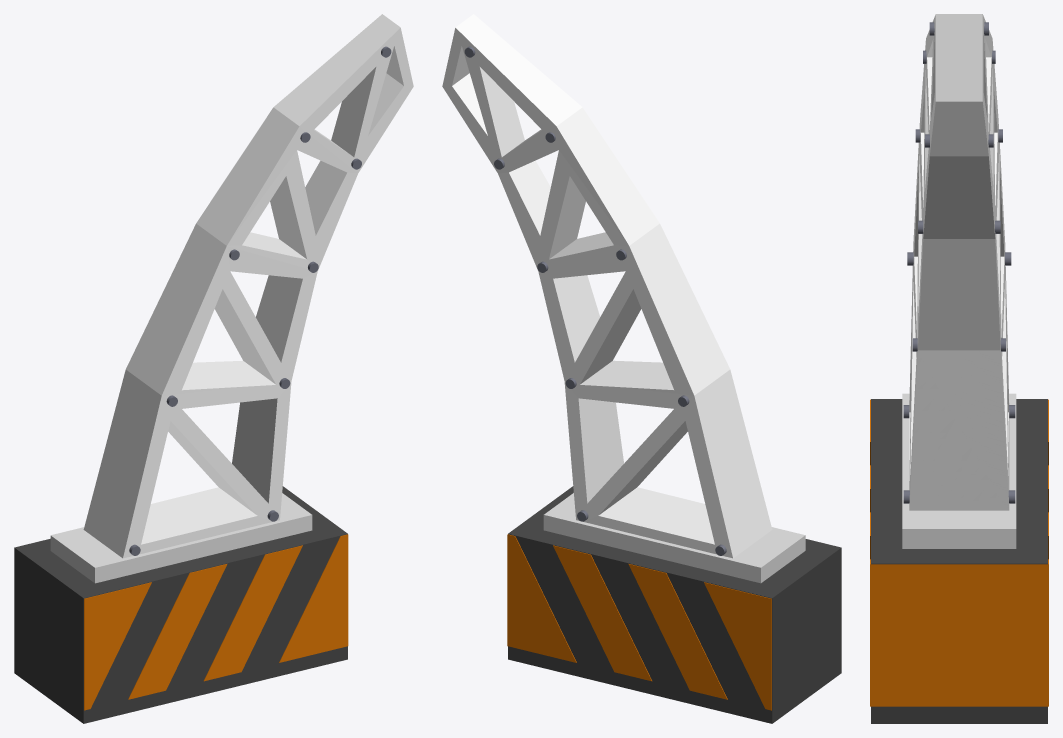
File: Ramp.fbx
3 renders of one model, left to right at view 1: azimuth 30°, elevation 25°; view 2: azimuth 150°, elevation 25°; view 3: azimuth 270°, elevation 25°, orthographic. The views are drawn at different scales.
Parts seen in each view (by area): view 1: Куб.049, Куб.051; view 2: Куб.049, Куб.051; view 3: Куб.051, Куб.049.
Part boxes in pixels (x1,y1,x2,y2): Куб.049: (83,14,413,558); Куб.051: (14,486,348,723); Куб.049: (442,14,772,558); Куб.051: (507,486,841,723); Куб.051: (870,393,1048,723); Куб.049: (903,14,1015,510).
Bounding box in the file's own units: 592 × 946 × 202.
